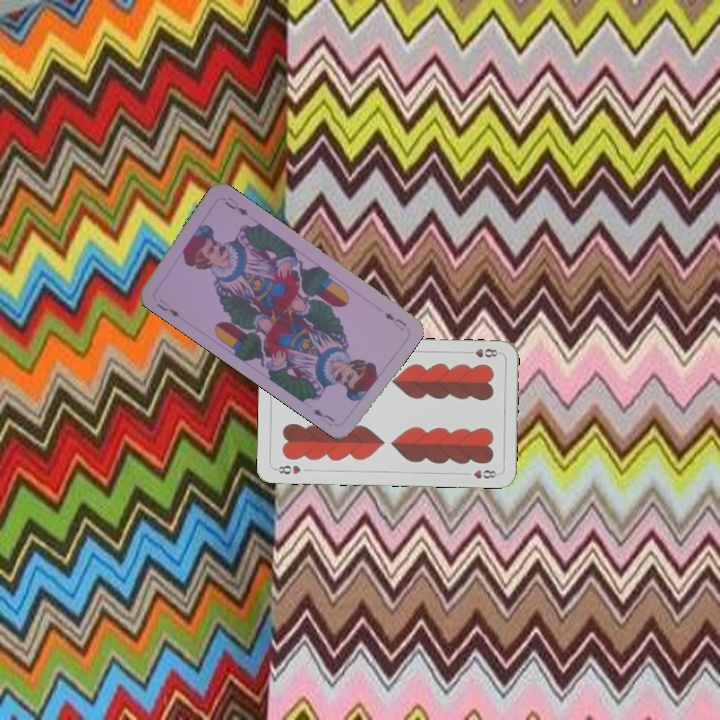EU: (380, 308, 410, 331), (153, 297, 182, 320)
H8: (462, 345, 503, 360), (271, 461, 303, 477)
